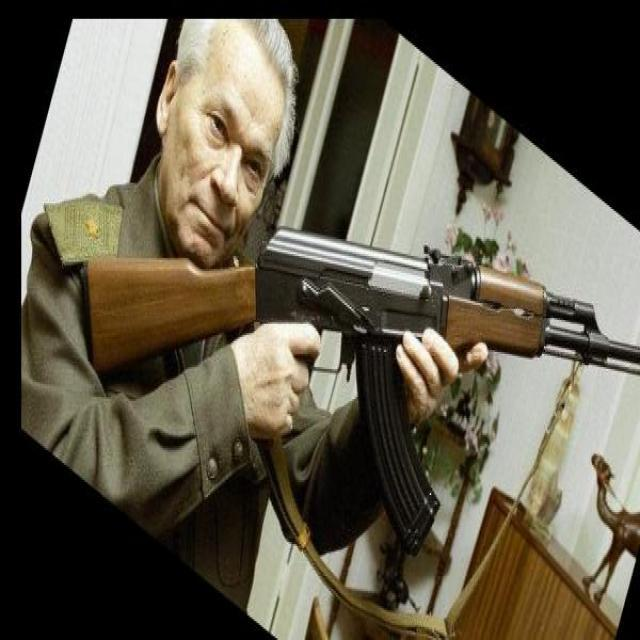weapon: (79, 226, 640, 556)
